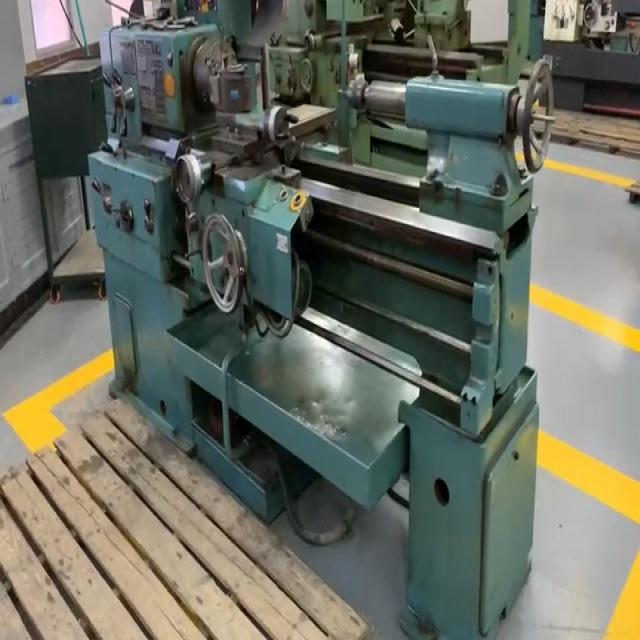tour parallele: (89, 0, 557, 640), (97, 1, 545, 427)
